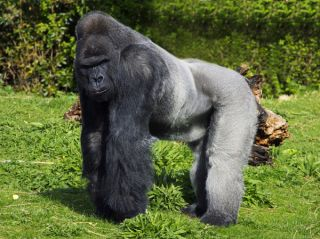Gorilla: (67, 15, 260, 224)
